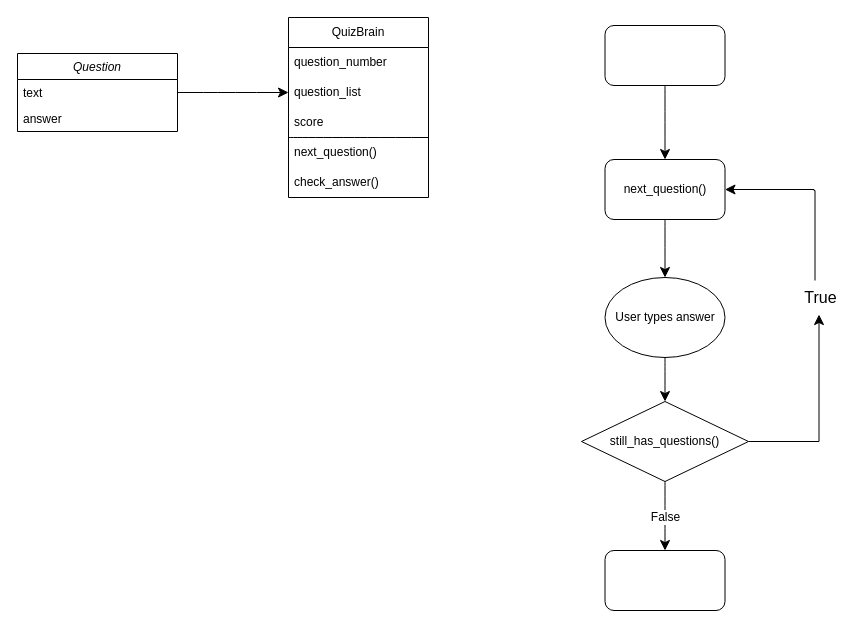
The diagram is 862 pixels wide and 628 high, and some of its shapes have lost their labels. Each missing label, with the centre of its shape:
"end" belongs at point 664,580.
"start" belongs at point 664,55.
